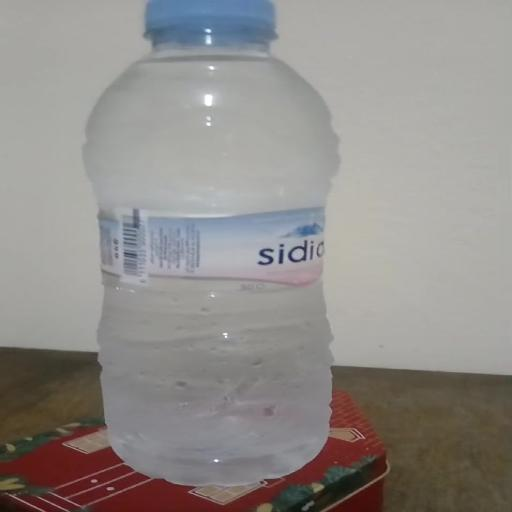bouteille conformite: (86, 0, 337, 485)
